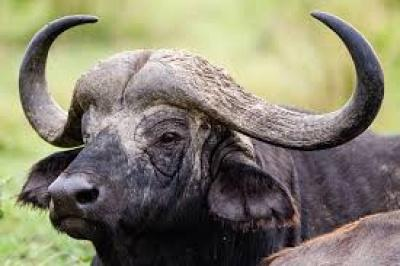buffalo: (19, 12, 399, 265)
